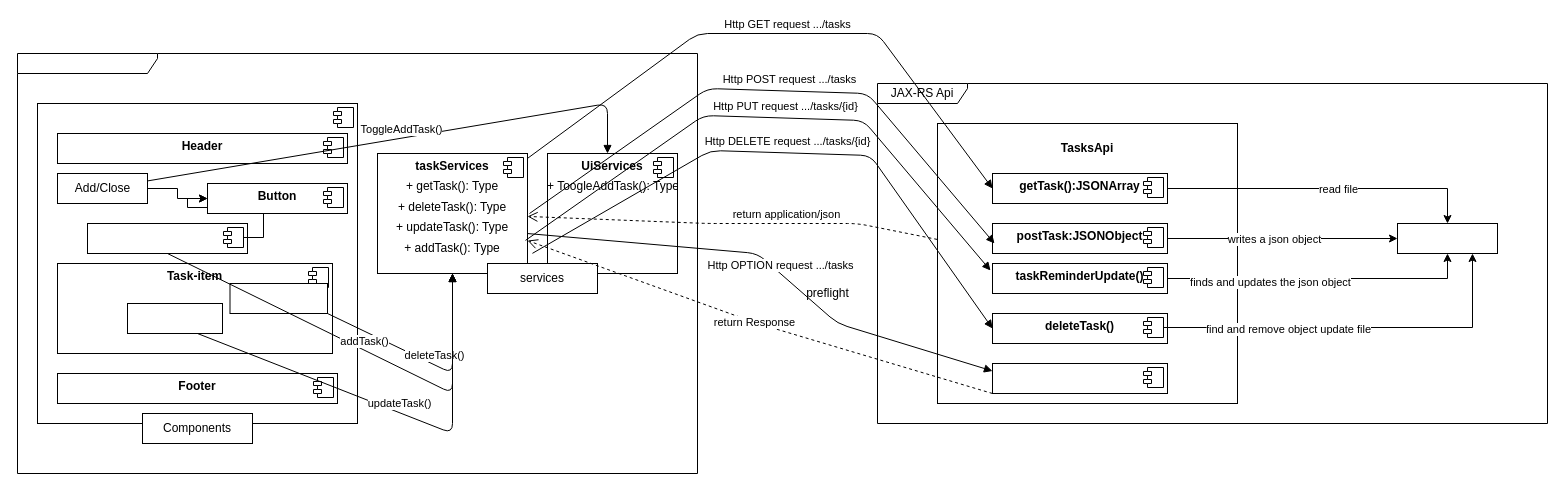
The diagram is 1565 pixels wide and 491 high, and some of its shapes have lost their labels. Here are the shapes that lost their labels. From the top down, the box of each, then its label:
(86, 222, 248, 254): onAddTask()
(1396, 222, 1498, 254): db.json {}
(36, 102, 358, 424): Tasks
(16, 52, 698, 474): AngularApp
(126, 302, 222, 334): onToggle(task)
(229, 282, 328, 314): onDelete(task)
(992, 362, 1168, 394): option():Response
